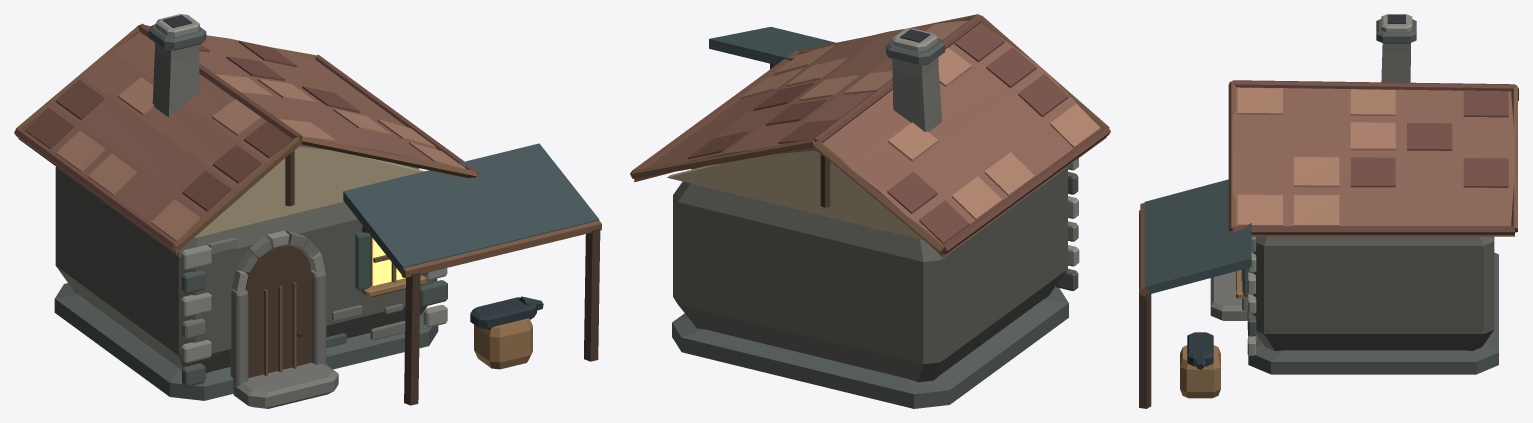
File: BLD_V3_Forge_LeanTo.glb
3 views of the same model, side by side, from view 1: azimuth 30°, elevation 25°; view 2: azimuth 150°, elevation 25°; view 3: azimuth 270°, elevation 25° (orthographic). The views are drawn at different scales.
Parts seen in each view (by area): view 1: BLD_V3_Forge_LeanTo; view 2: BLD_V3_Forge_LeanTo; view 3: BLD_V3_Forge_LeanTo.
Boxes of the visible parts, <box> form: BLD_V3_Forge_LeanTo: <box>14,14,601,408</box>; BLD_V3_Forge_LeanTo: <box>630,14,1110,408</box>; BLD_V3_Forge_LeanTo: <box>1139,14,1518,408</box>.
Size of the model in its own units: 4.18 by 3.28 by 4.08.
